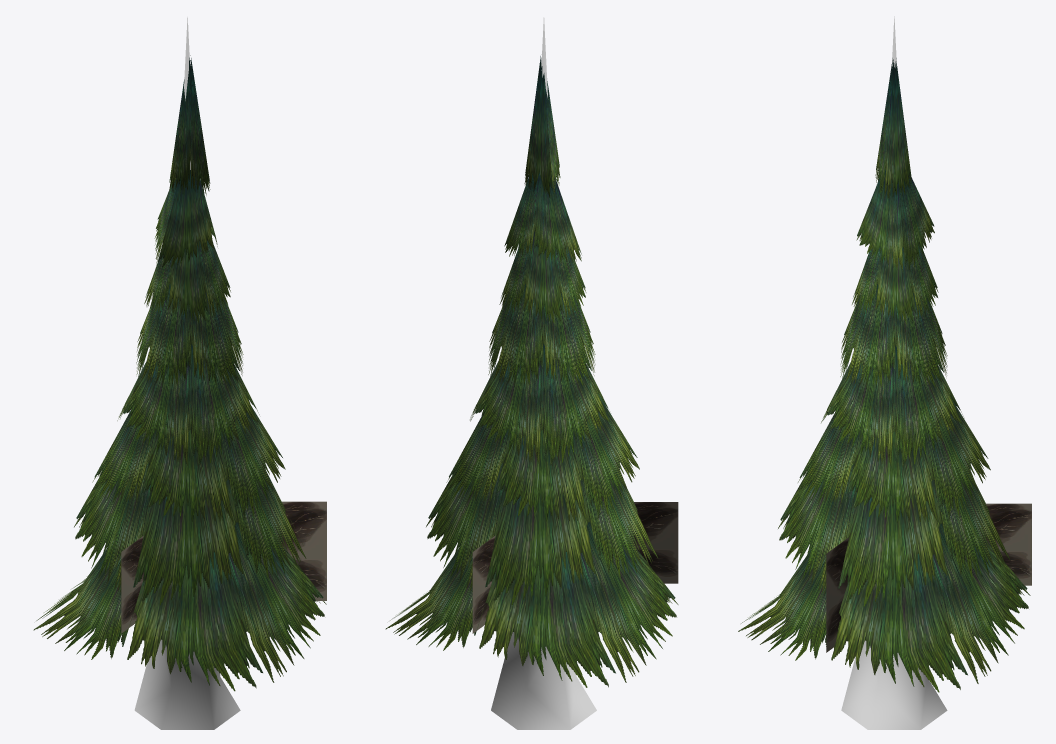
The model's file is tirisfalgladetree01.obj.
3 views of the same model, side by side, from view 1: azimuth 30°, elevation 25°; view 2: azimuth 150°, elevation 25°; view 3: azimuth 270°, elevation 25° (orthographic).
Visible parts, largest first — view 1: TIRISFALGLADETREE011, TIRISFALGLADETREE010, TIRISFALGLADETREE012; view 2: TIRISFALGLADETREE011, TIRISFALGLADETREE010, TIRISFALGLADETREE012; view 3: TIRISFALGLADETREE011, TIRISFALGLADETREE010, TIRISFALGLADETREE012.
Boxes of the visible parts, x1,y1,x2,y2 form: TIRISFALGLADETREE011: (33,55,326,691); TIRISFALGLADETREE010: (134,17,240,729); TIRISFALGLADETREE012: (121,501,326,633); TIRISFALGLADETREE011: (385,56,678,687); TIRISFALGLADETREE010: (491,17,596,729); TIRISFALGLADETREE012: (472,502,678,633); TIRISFALGLADETREE011: (738,58,1030,692); TIRISFALGLADETREE010: (841,16,947,729); TIRISFALGLADETREE012: (826,503,1031,652).
Size of the model in its own units: 30.38 by 76.8 by 32.28.
